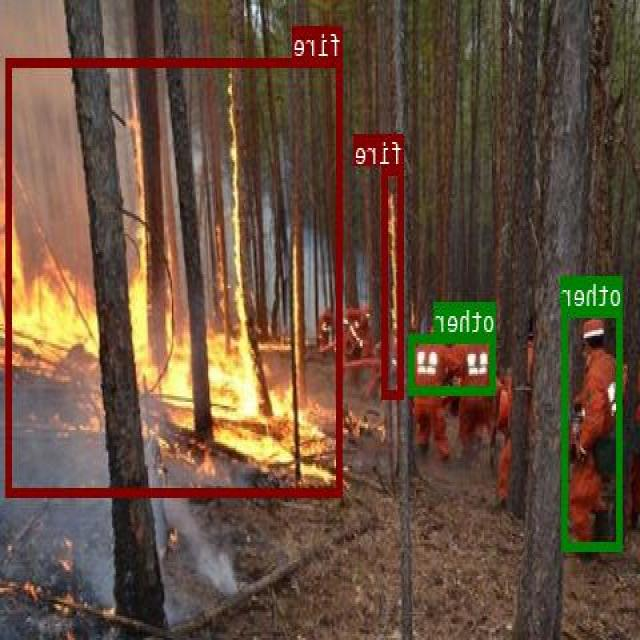fire: (7, 58, 343, 494), (384, 165, 404, 398)
other: (564, 307, 624, 548), (410, 334, 496, 392)
